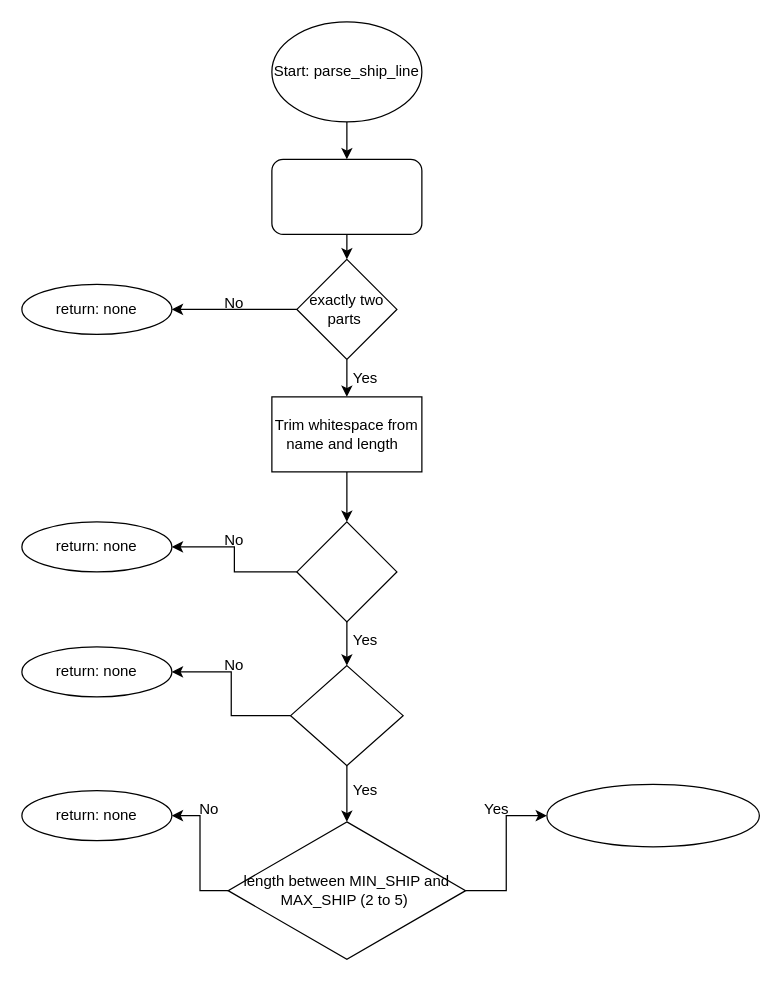
Image size: 781x981. Some labels were removed from this diagram. Each missing label, with the centre of its shape:
length parses as a number: pixel 346 715
name is empty?: pixel 346 571
return some ship spec: pixel 652 815
split line by comma into parts: pixel 346 196
